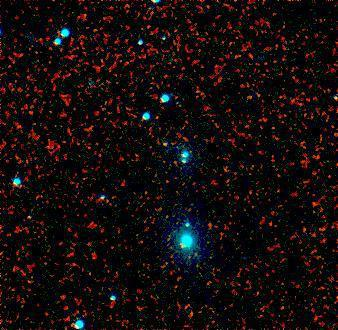star: (176, 134, 206, 164)
